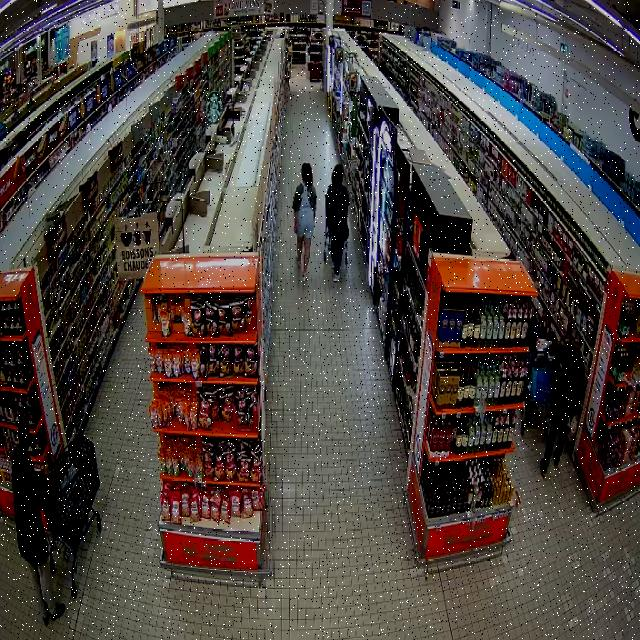hands: (294, 227, 297, 233)
person: (12, 419, 65, 624), (539, 340, 585, 476), (325, 164, 349, 281), (292, 164, 316, 280)
